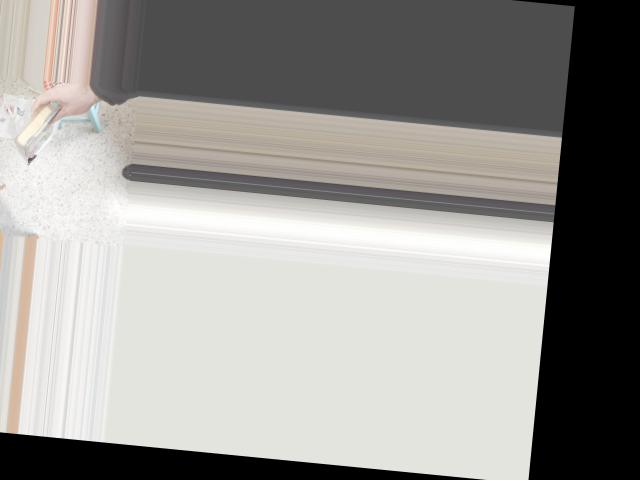cheese: (9, 81, 69, 168)
